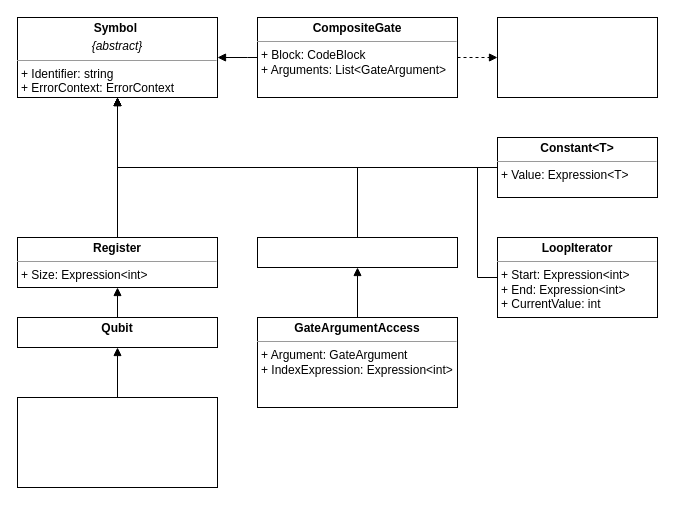
Some shapes in this 675 by 505 pixel diagram are drawn without their labels. Here are the shapes that lost their labels. From the top down, the centre of each, then its label:
At point (577, 57): "<<Interface>> IGate + NumberOfArguments: int + Type: GateType".
At point (357, 252): "GateArgument".
At point (117, 442): "RegisterAccess + Register: Register + IndexExpression: Expression<int>".
